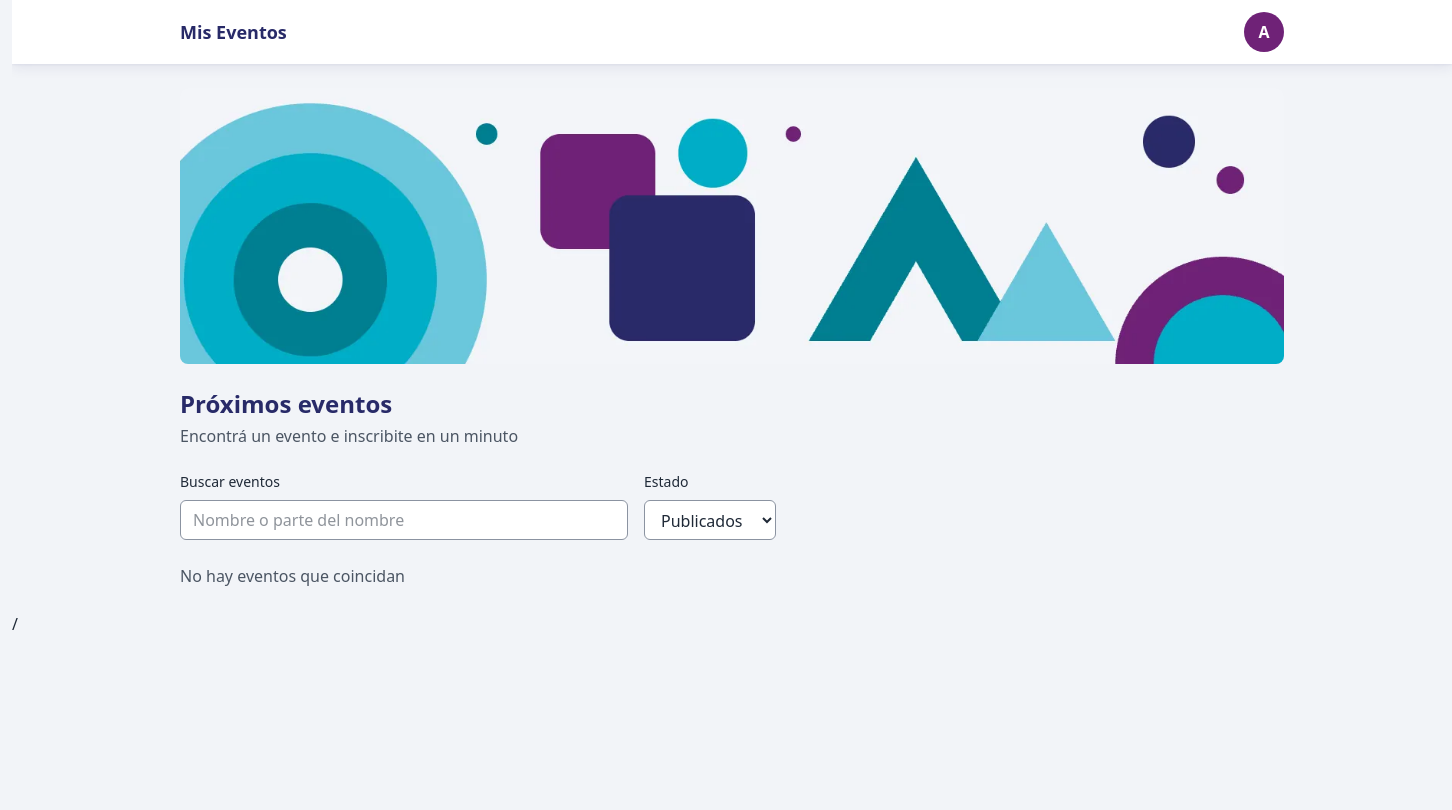
Escape cierra el menú de la cuenta y devuelve el foco al círculo
Step 1. Click the button named "Menú de la cuenta" → point(1264, 32), box [1244,12,1284,52]
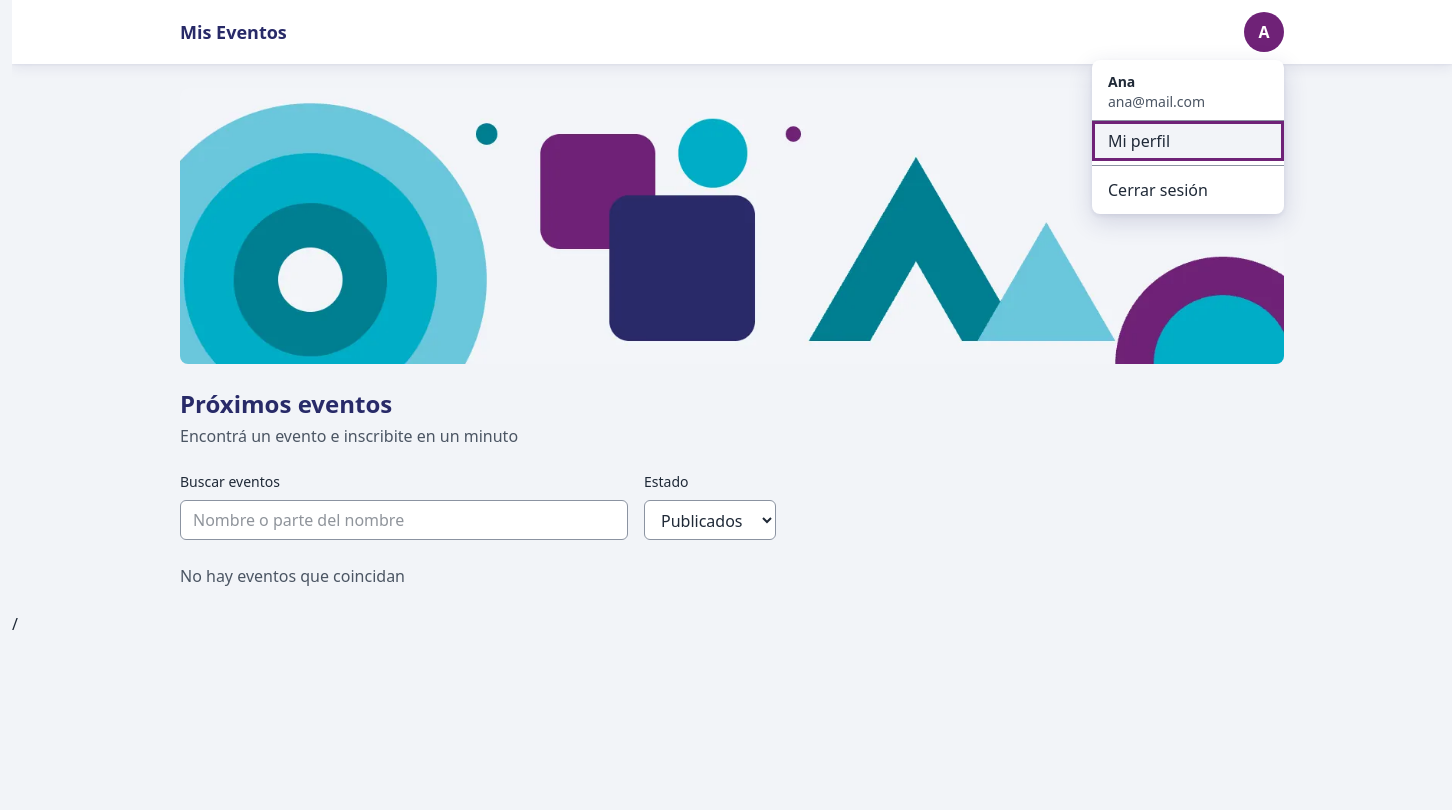
Expected: the menu is shown, [1092,60,1284,214]
Step 2. Press Escape
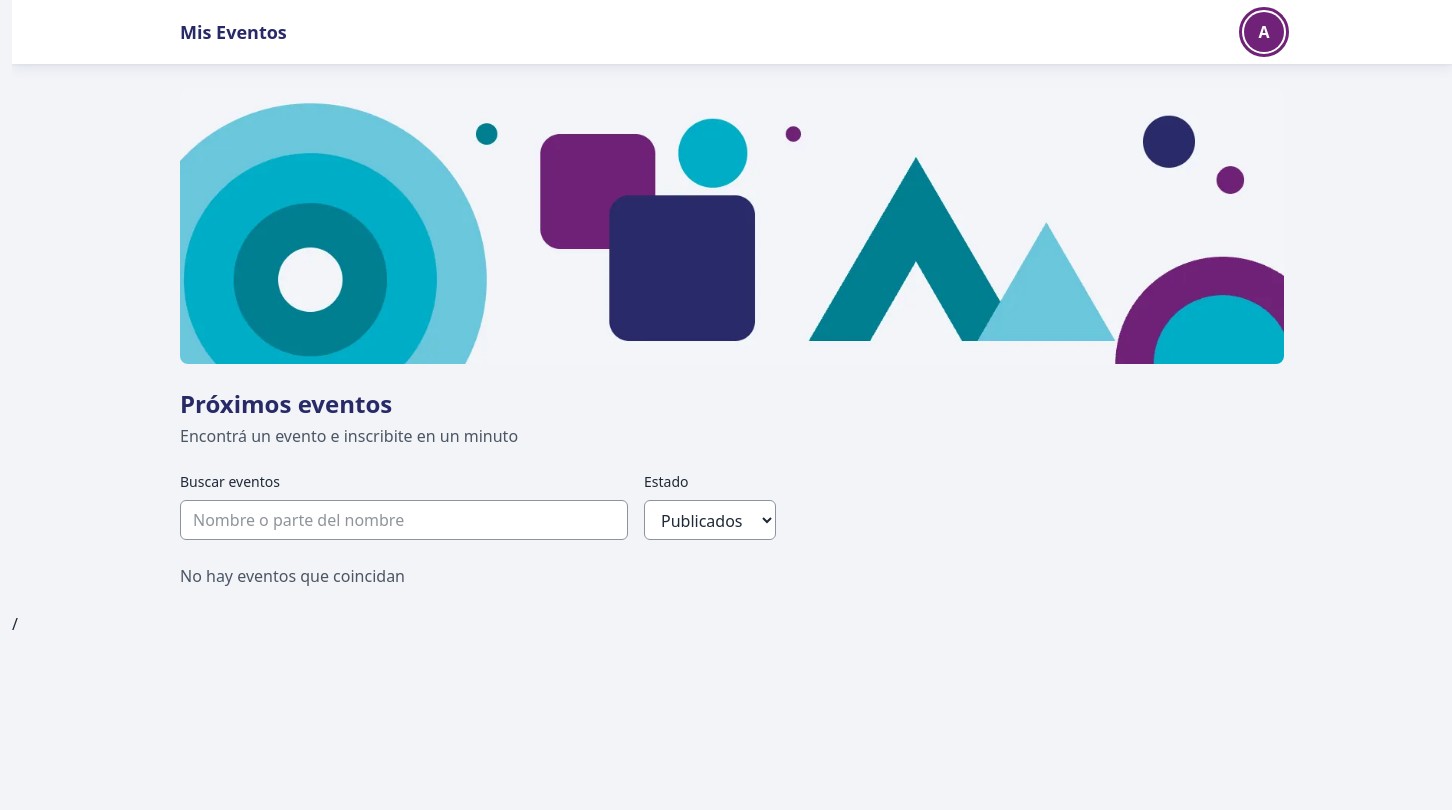
Expected: the menu is gone
